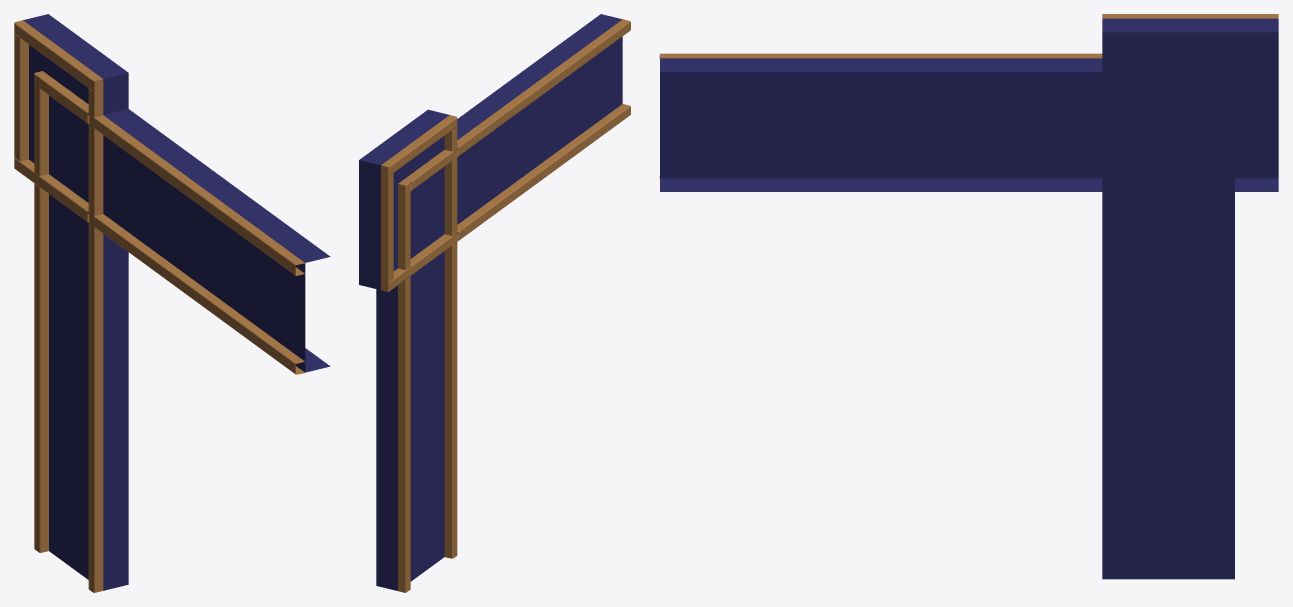
File: Hookable_Surface_Corner.fbx
3 views of the same model, side by side, from view 1: azimuth 30°, elevation 25°; view 2: azimuth 150°, elevation 25°; view 3: azimuth 270°, elevation 25° (orthographic). The views are drawn at different scales.
Parts seen in each view (by area): view 1: Hookable_Surface_Corner; view 2: Hookable_Surface_Corner; view 3: Hookable_Surface_Corner.
Part boxes in pixels (x1=…): Hookable_Surface_Corner: x1=14, y1=14, x2=330, y2=592; Hookable_Surface_Corner: x1=359, y1=14, x2=630, y2=592; Hookable_Surface_Corner: x1=659, y1=14, x2=1278, y2=579.
Bounding box in the file's own units: 10 × 140 × 140.
